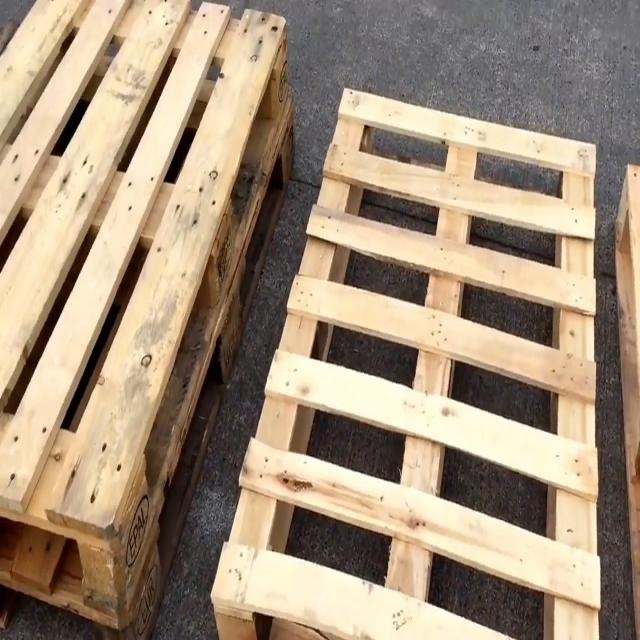Palette: (210, 84, 612, 640), (0, 0, 298, 640), (617, 158, 640, 640)
